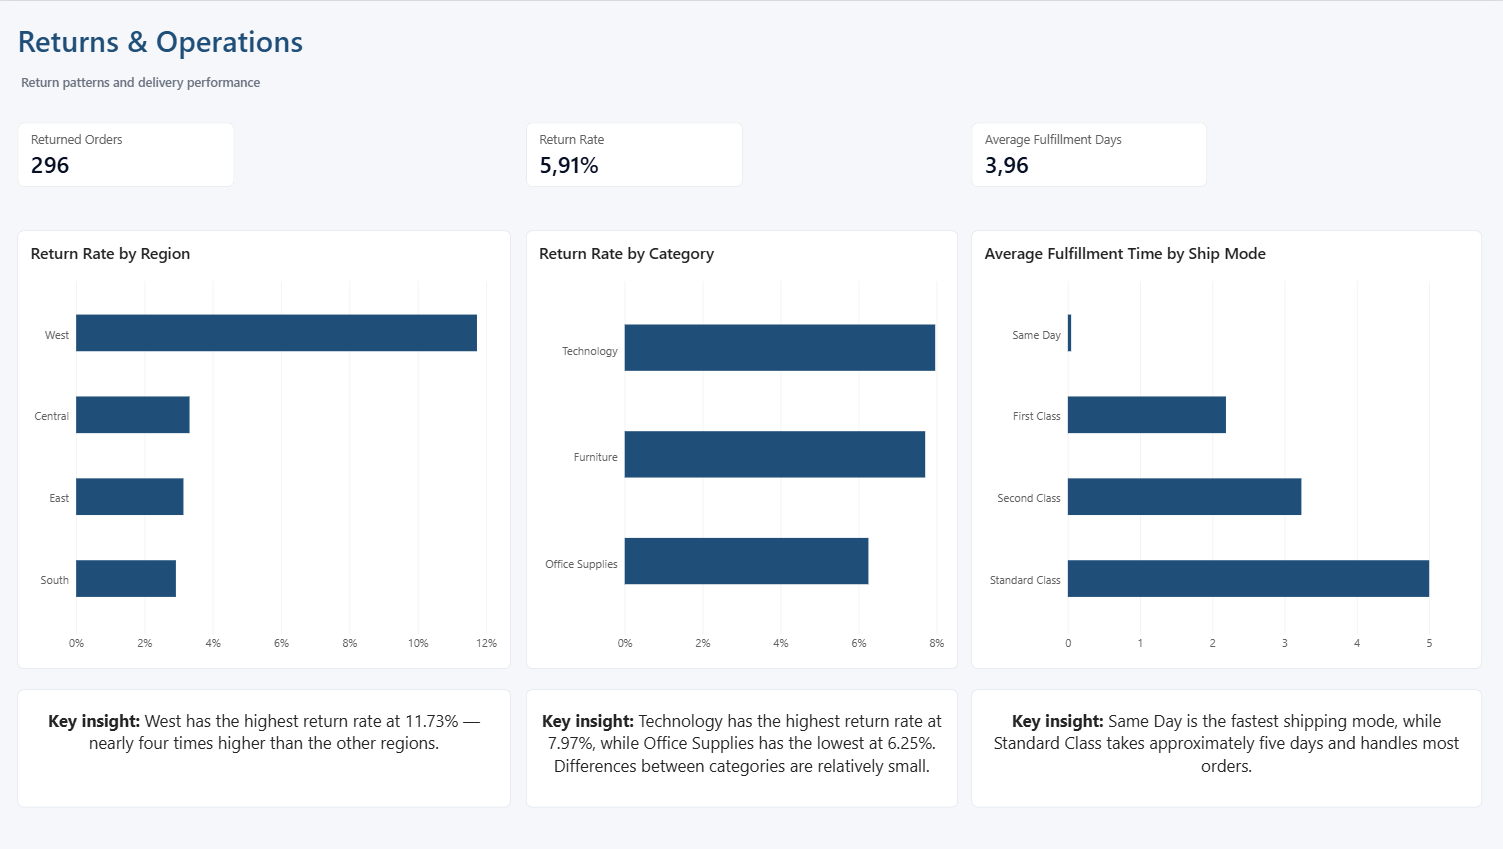

The page's visual inventory and layout, read from the dashboard file:
{"tool":"powerbi","page":{"name":"Returns & Operations","canvas":[1920,1080],"ordinal":2},"visuals":[{"type":"cardVisual","fields":{"Data":["_Measures.Returned Orders"]},"box":[24,154,276,82],"z":0},{"type":"cardVisual","fields":{"Data":["_Measures.Return Rate"]},"box":[672,154,276,82],"z":1000},{"type":"cardVisual","fields":{"Data":["_Measures.Average Fulfillment Days"]},"box":[1240,154,300,82],"z":2000},{"type":"clusteredBarChart","title":"Return Rate by Category","fields":{"Category":["orders.category"],"Y":["_Measures.Return Rate"]},"box":[672,292,550,558],"z":3000},{"type":"clusteredBarChart","title":"Return Rate by Region","fields":{"Category":["people.region"],"Y":["_Measures.Return Rate"]},"box":[24,292,628,558],"z":4000},{"type":"clusteredBarChart","title":"Average Fulfillment Time by Ship Mode","fields":{"Category":["orders.ship_mode"],"Y":["_Measures.Average Fulfillment Days"]},"box":[1240,292,650,558],"z":5000},{"type":"textbox","box":[24,24,550,106],"z":6000},{"type":"textbox","box":[24,876,628,150],"z":8000},{"type":"textbox","box":[672,876,550,150],"z":9000},{"type":"textbox","box":[1240,876,650,150],"z":10000}]}

Visuals, with their boxes in screenshot pixels (x1, y1, x2, y2), scaled from the page's 1920x1080 canvas onto the 1503x849 screenshot:
cardVisual - _Measures.Returned Orders: bbox=[19, 121, 235, 186]
cardVisual - _Measures.Return Rate: bbox=[526, 121, 742, 186]
cardVisual - _Measures.Average Fulfillment Days: bbox=[971, 121, 1206, 186]
"Return Rate by Category" clusteredBarChart: bbox=[526, 230, 957, 668]
"Return Rate by Region" clusteredBarChart: bbox=[19, 230, 510, 668]
"Average Fulfillment Time by Ship Mode" clusteredBarChart: bbox=[971, 230, 1480, 668]
textbox: bbox=[19, 19, 449, 102]
textbox: bbox=[19, 689, 510, 807]
textbox: bbox=[526, 689, 957, 807]
textbox: bbox=[971, 689, 1480, 807]
